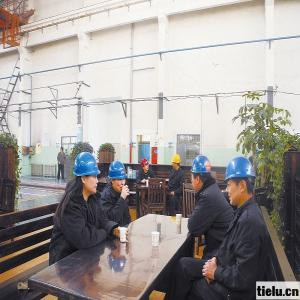blue: (225, 157, 257, 210), (74, 154, 101, 197), (192, 156, 214, 194), (110, 161, 128, 195)
none: (60, 147, 65, 154)
red: (141, 159, 151, 173)
yellow: (172, 154, 182, 170)
